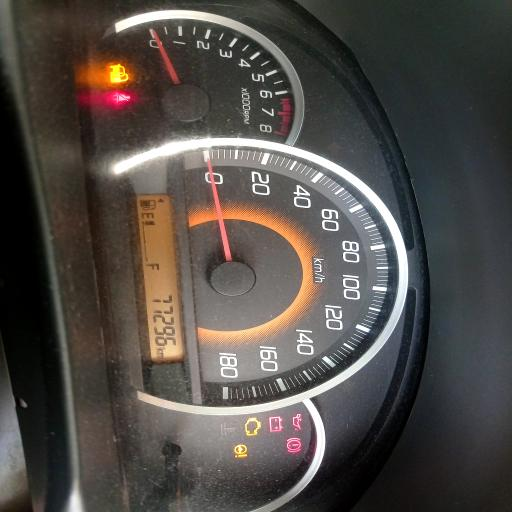belt: (108, 91, 132, 105)
brake_system_fault: (286, 437, 303, 452)
car_closed: (107, 62, 129, 84)
check_engine: (244, 416, 262, 436)
oil: (291, 412, 302, 431)
tachometer: (94, 8, 307, 144)
vehicle_charging: (269, 416, 283, 432)
